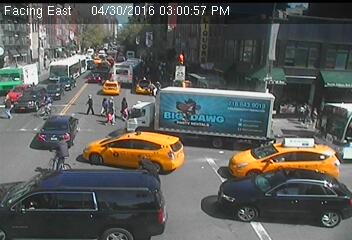neg: (45, 132, 75, 172), (32, 92, 57, 125), (178, 178, 203, 210), (286, 179, 304, 203), (178, 37, 195, 60), (249, 177, 264, 196), (225, 127, 239, 146), (309, 132, 323, 150), (202, 29, 215, 46), (73, 201, 86, 218), (26, 164, 39, 181), (138, 210, 150, 227), (276, 41, 288, 58), (226, 33, 238, 49), (256, 131, 268, 146), (182, 98, 193, 114), (4, 28, 15, 44), (161, 93, 173, 107), (117, 48, 128, 62), (335, 63, 345, 78), (79, 41, 89, 54), (168, 142, 177, 155), (272, 181, 280, 191), (139, 32, 147, 42), (115, 161, 123, 171)
pos: (133, 150, 157, 182), (102, 95, 124, 125), (114, 97, 133, 122), (81, 93, 99, 117), (99, 96, 112, 114)
